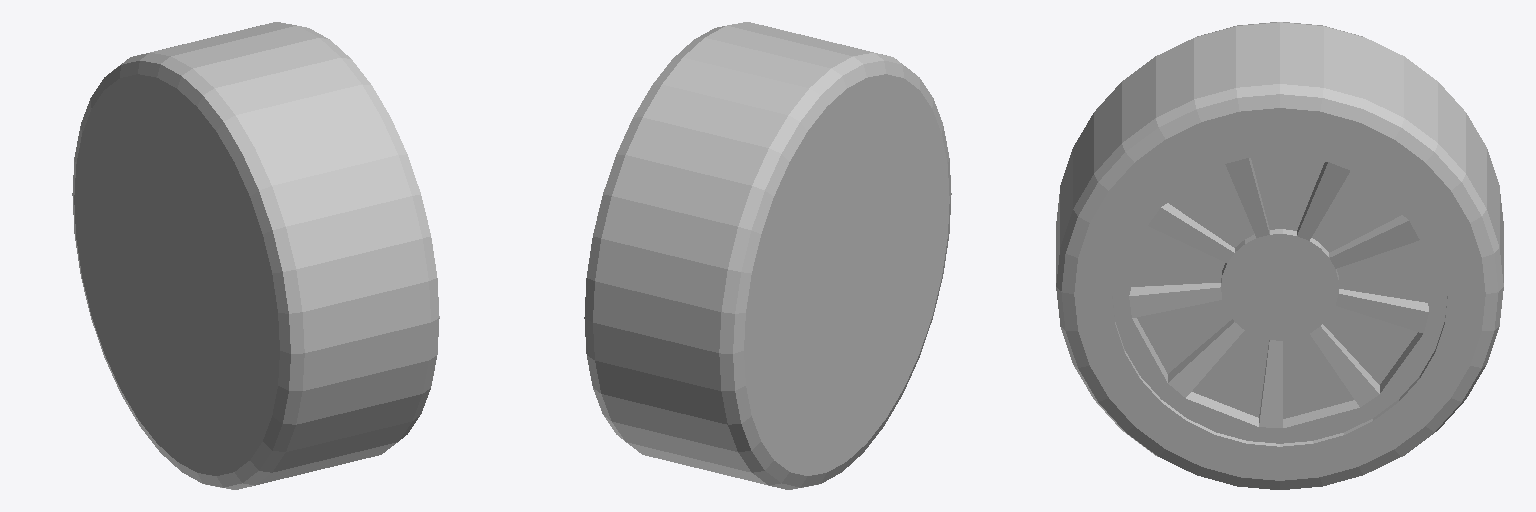
The model's file is front_right_tire.obj.
The picture shows the model from 3 angles: view 1: azimuth 30°, elevation 25°; view 2: azimuth 150°, elevation 25°; view 3: azimuth 270°, elevation 25°; orthographic projection.
Visible parts, largest first — view 1: s15-wheel.Ft.R; view 2: s15-wheel.Ft.R; view 3: s15-wheel.Ft.R.
Part boxes in pixels (left/top/right/bottom): s15-wheel.Ft.R: left=72, top=22, right=439, bottom=489; s15-wheel.Ft.R: left=584, top=22, right=951, bottom=489; s15-wheel.Ft.R: left=1056, top=22, right=1503, bottom=489.
Size of the model in its own units: 0.269 by 0.6616 by 0.6616.